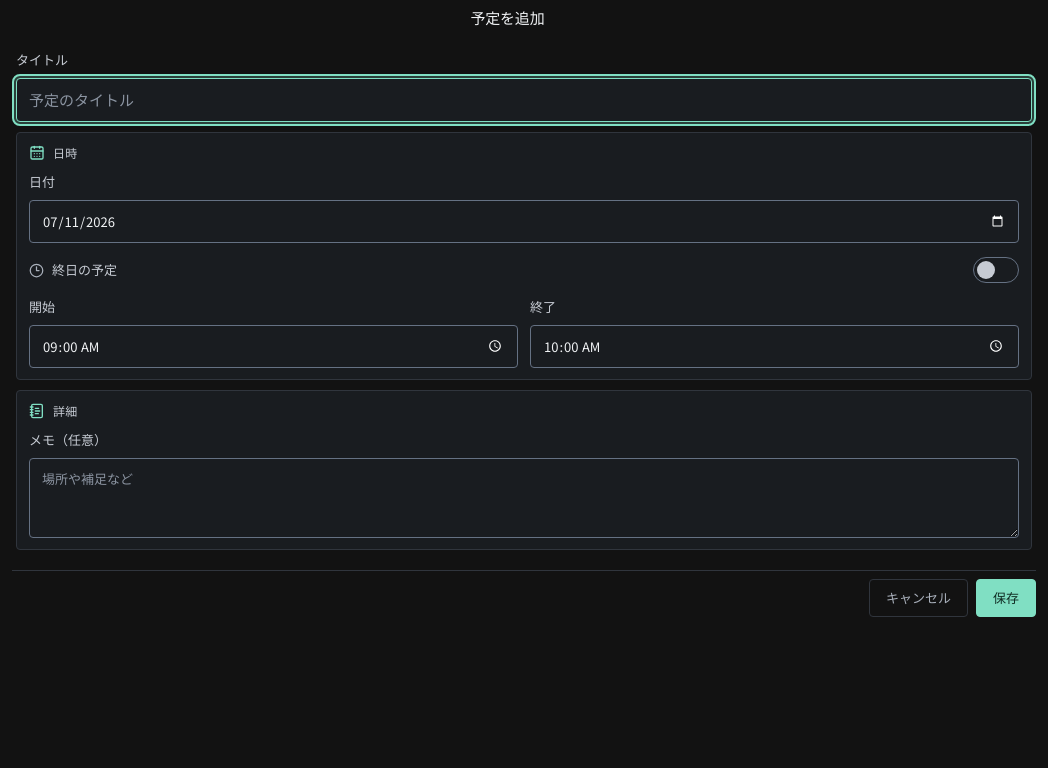
Test: CalendarEventEditor › shows backend failures separately from field validation
This screenshot has width=1048, height=768.
Type "設計レビュー" into the field labelled "タイトル" at (524, 100), box [16,78,1032,122]
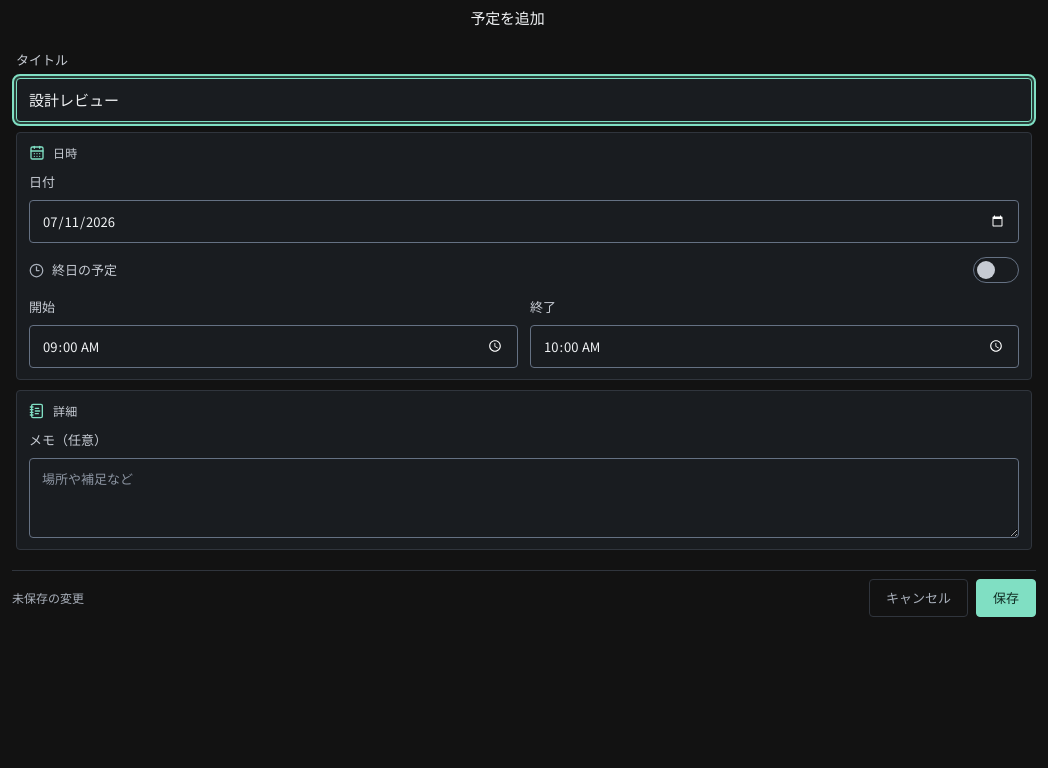
Click the button "保存" at (1006, 598), box [976,579,1036,616]
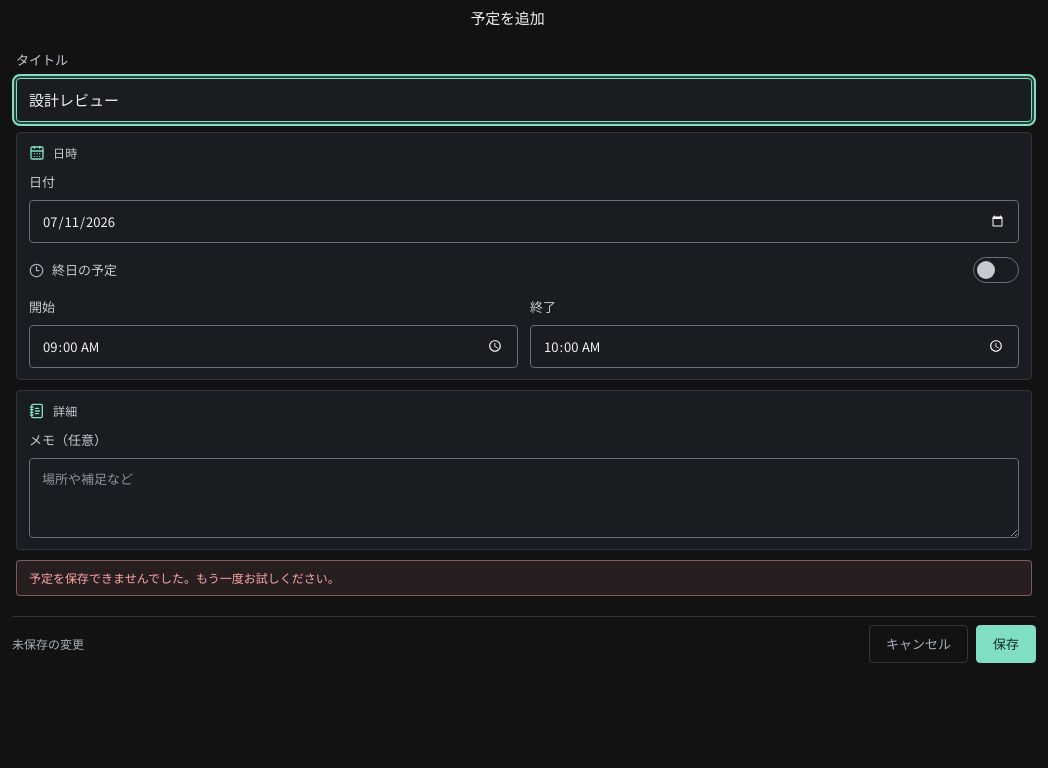
expect the message reads "予定を保存できませんでした。もう一度お試しください。": met, box [29,569,340,586]
